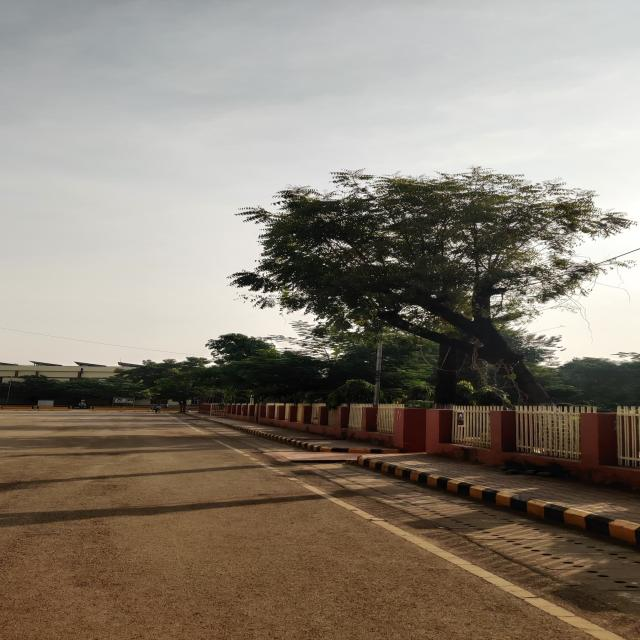Neem Tree: (241, 155, 603, 395)
